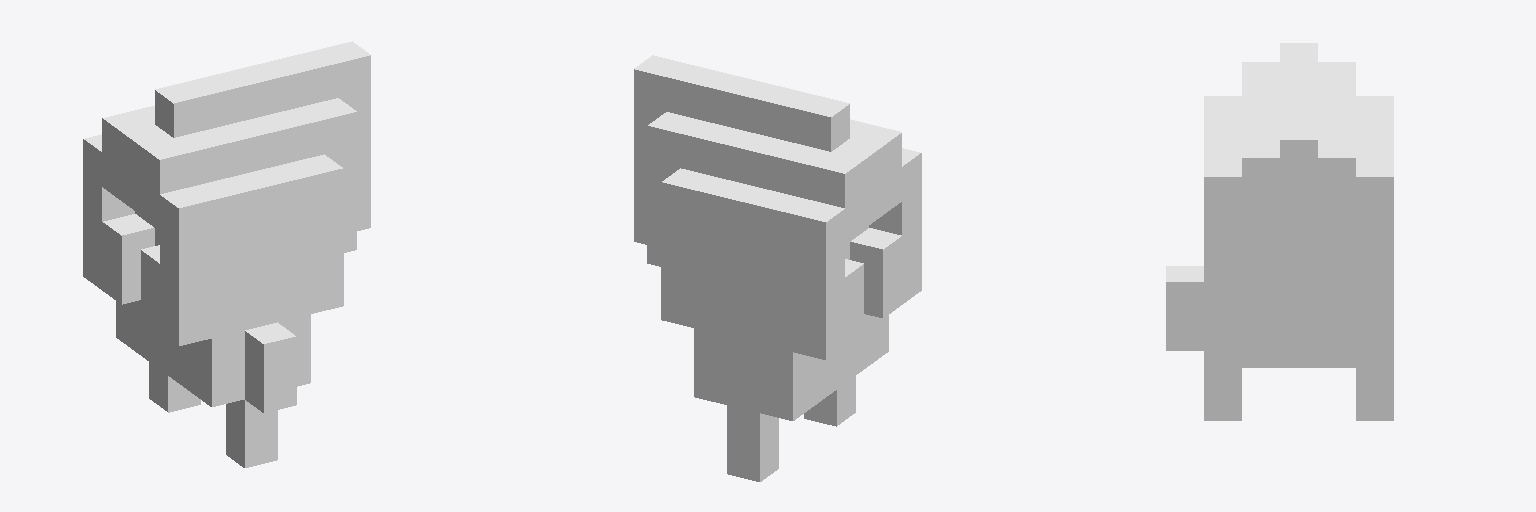
Rendered from emptyHandPlayer.obj.
The picture shows the model from 3 angles: view 1: azimuth 30°, elevation 25°; view 2: azimuth 150°, elevation 25°; view 3: azimuth 270°, elevation 25°; orthographic projection.
Parts seen in each view (by area): view 1: object 1; view 2: object 1; view 3: object 1.
Part boxes in pixels (x1,y1,x2,y2): object 1: (83,41,370,467); object 1: (634,55,921,481); object 1: (1166,43,1393,420).
Size of the model in its own units: 0.7 by 1 by 0.6.